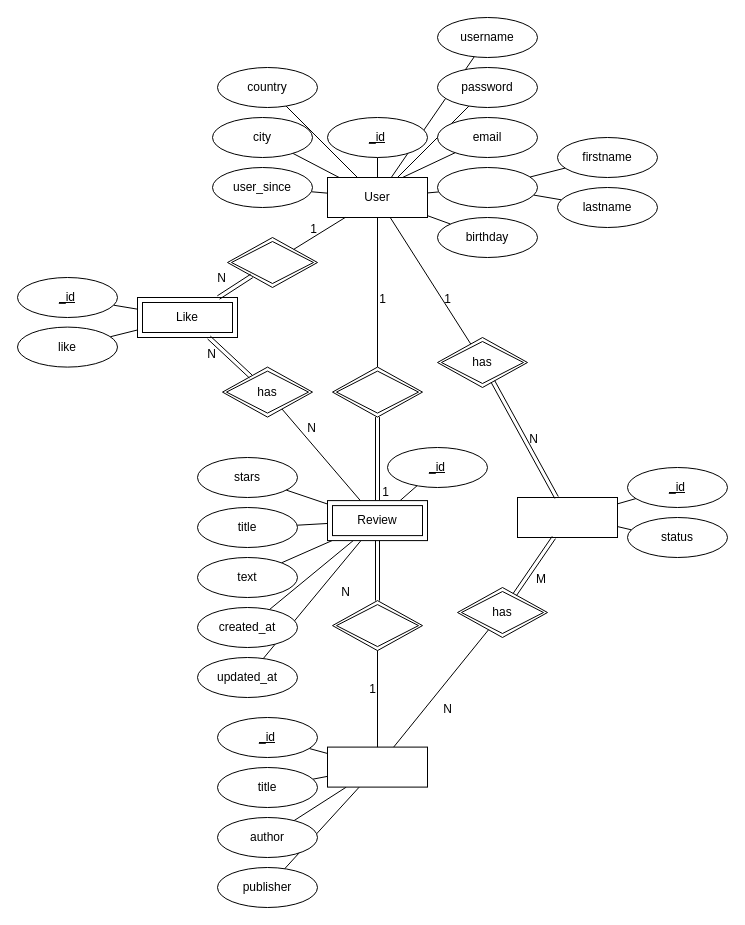
The diagram is 745 pixels wide and 925 high, and some of its shapes have lost their labels. Here are the shapes that lost their labels. From the top down, the centre of each, then its label:
At (x=487, y=187): "name".
At (x=272, y=262): "by".
At (x=377, y=391): "gives".
At (x=567, y=517): "Shelf".
At (x=377, y=625): "of".
At (x=377, y=766): "Book".
